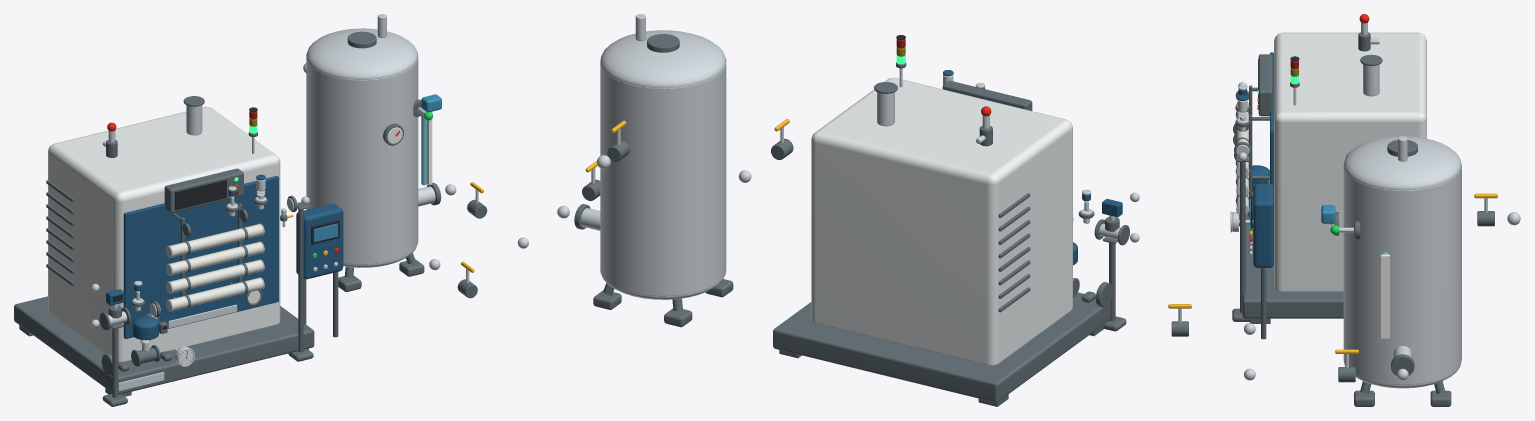
File: STE.glb
3 views of the same model, side by side, from view 1: azimuth 30°, elevation 25°; view 2: azimuth 150°, elevation 25°; view 3: azimuth 270°, elevation 25° (orthographic). The views are drawn at different scales.
Parts seen in each view (by area): view 1: body, asep; view 2: body, asep; view 3: body, asep, asep_level.
Boxes of the visible parts, box(x1,y1,x2,y2) form: body: box(14, 14, 528, 406); asep: box(306, 28, 418, 267); body: box(557, 14, 1139, 406); asep: box(600, 30, 726, 299); body: box(1168, 14, 1520, 406); asep: box(1343, 136, 1461, 388); asep_level: box(1381, 254, 1389, 338).
Size of the model in its own units: 7.72 by 4.14 by 5.06.
